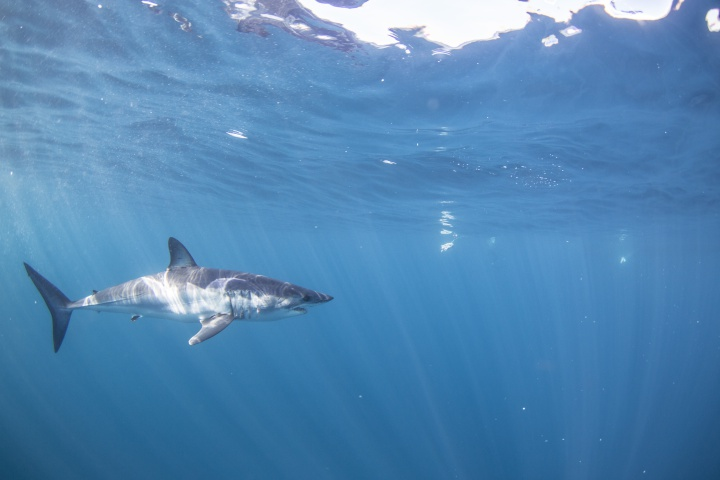Mako: (20, 233, 340, 360)
